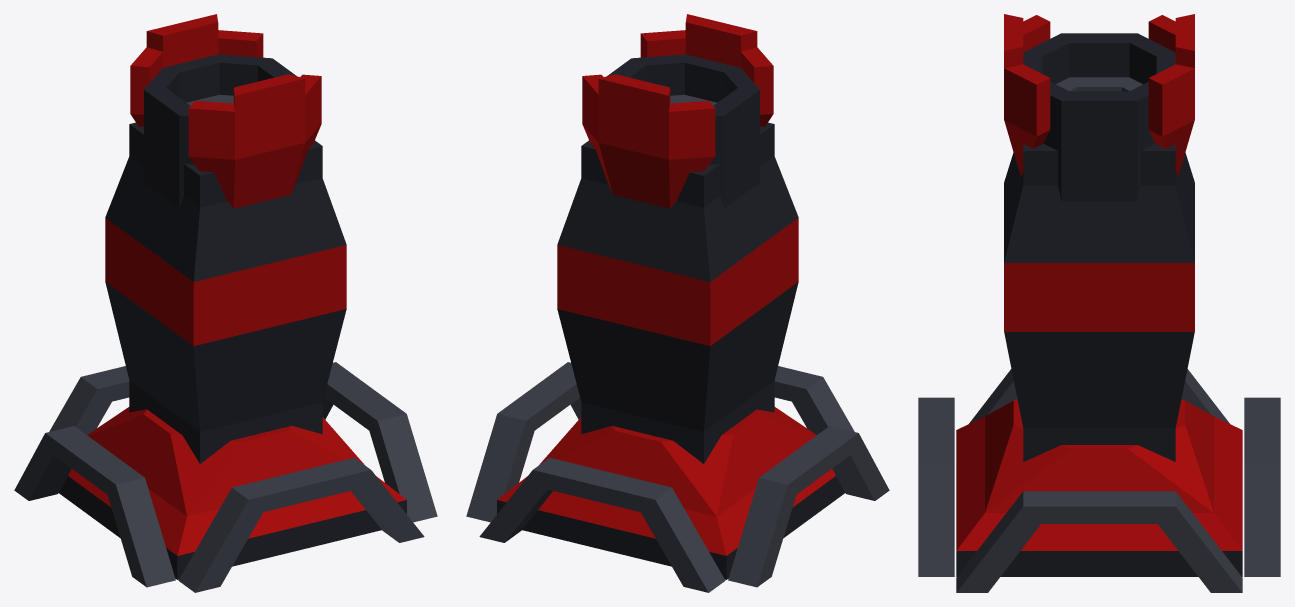
File: Enemy_Tower_2.fbx
3 views of the same model, side by side, from view 1: azimuth 30°, elevation 25°; view 2: azimuth 150°, elevation 25°; view 3: azimuth 270°, elevation 25° (orthographic). The views are drawn at different scales.
Visible parts, largest first — view 1: mergedBlocks; view 2: mergedBlocks; view 3: mergedBlocks.
Boxes of the visible parts, x1=… form: mergedBlocks: x1=14, y1=14, x2=437, y2=592; mergedBlocks: x1=466, y1=14, x2=889, y2=592; mergedBlocks: x1=918, y1=14, x2=1280, y2=592.
Size of the model in its own units: 19 by 28 by 19.
